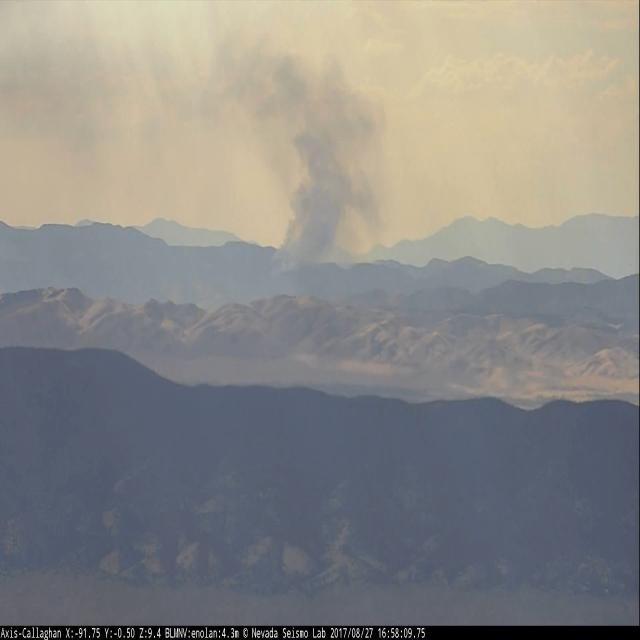smoke: (266, 60, 380, 274)
